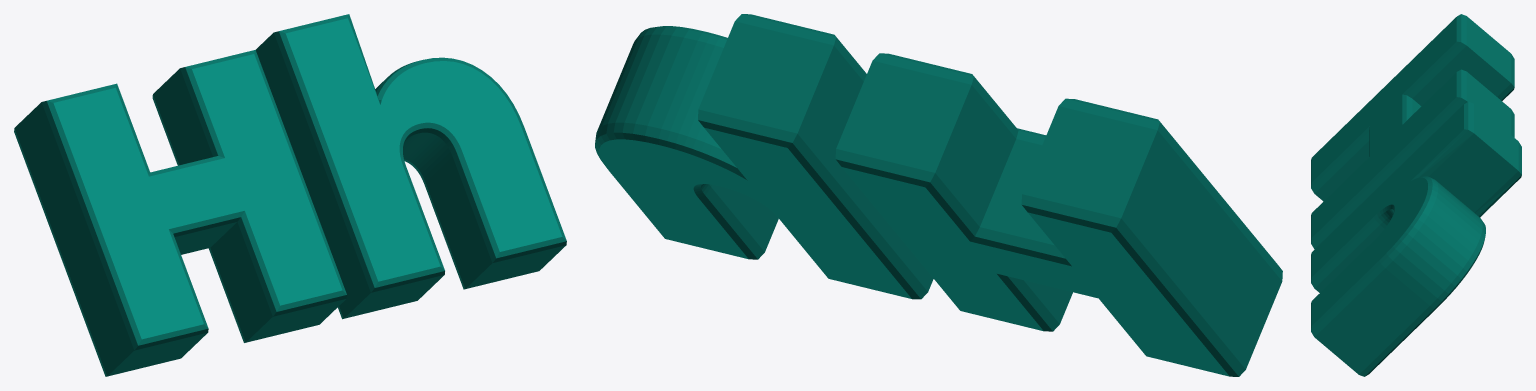
3 renders of one model, left to right at view 1: azimuth 30°, elevation 25°; view 2: azimuth 150°, elevation 25°; view 3: azimuth 270°, elevation 25°, orthographic. The views are drawn at different scales.
Parts seen in each view (by area): view 1: letter; view 2: letter; view 3: letter.
Part boxes in pixels (<box>): letter: <box>14,14,566,376</box>; letter: <box>595,14,1282,376</box>; letter: <box>1311,14,1521,376</box>.
Bounding box in the file's own units: 1.88 × 1.01 × 0.9711.
